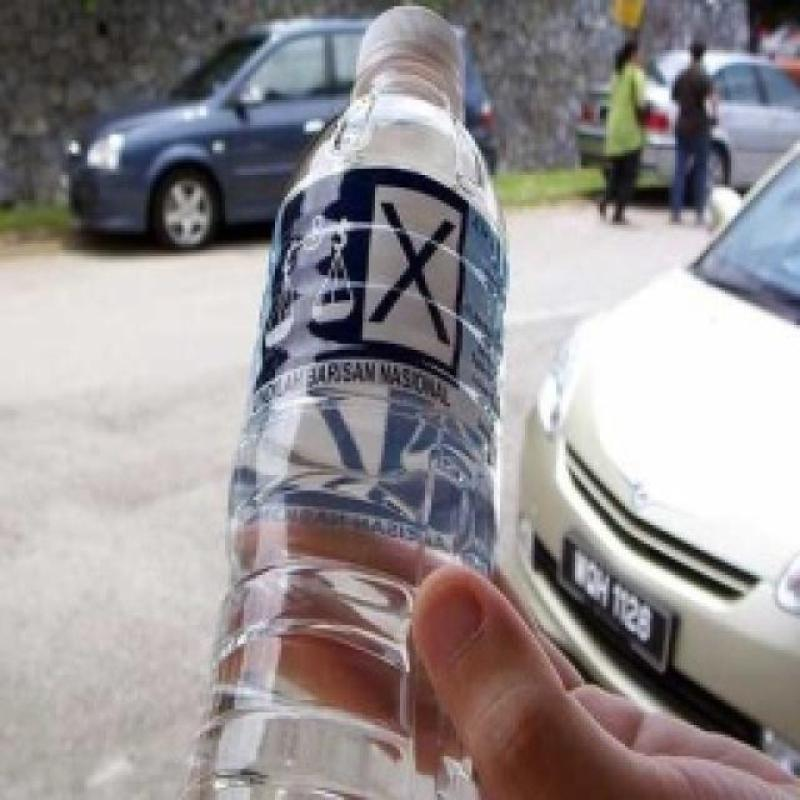botella: (185, 2, 510, 800)
